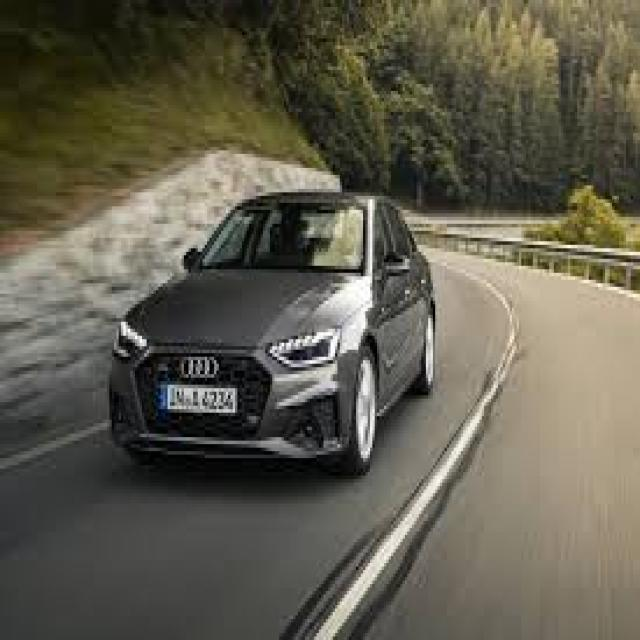cars: (106, 176, 442, 491)
